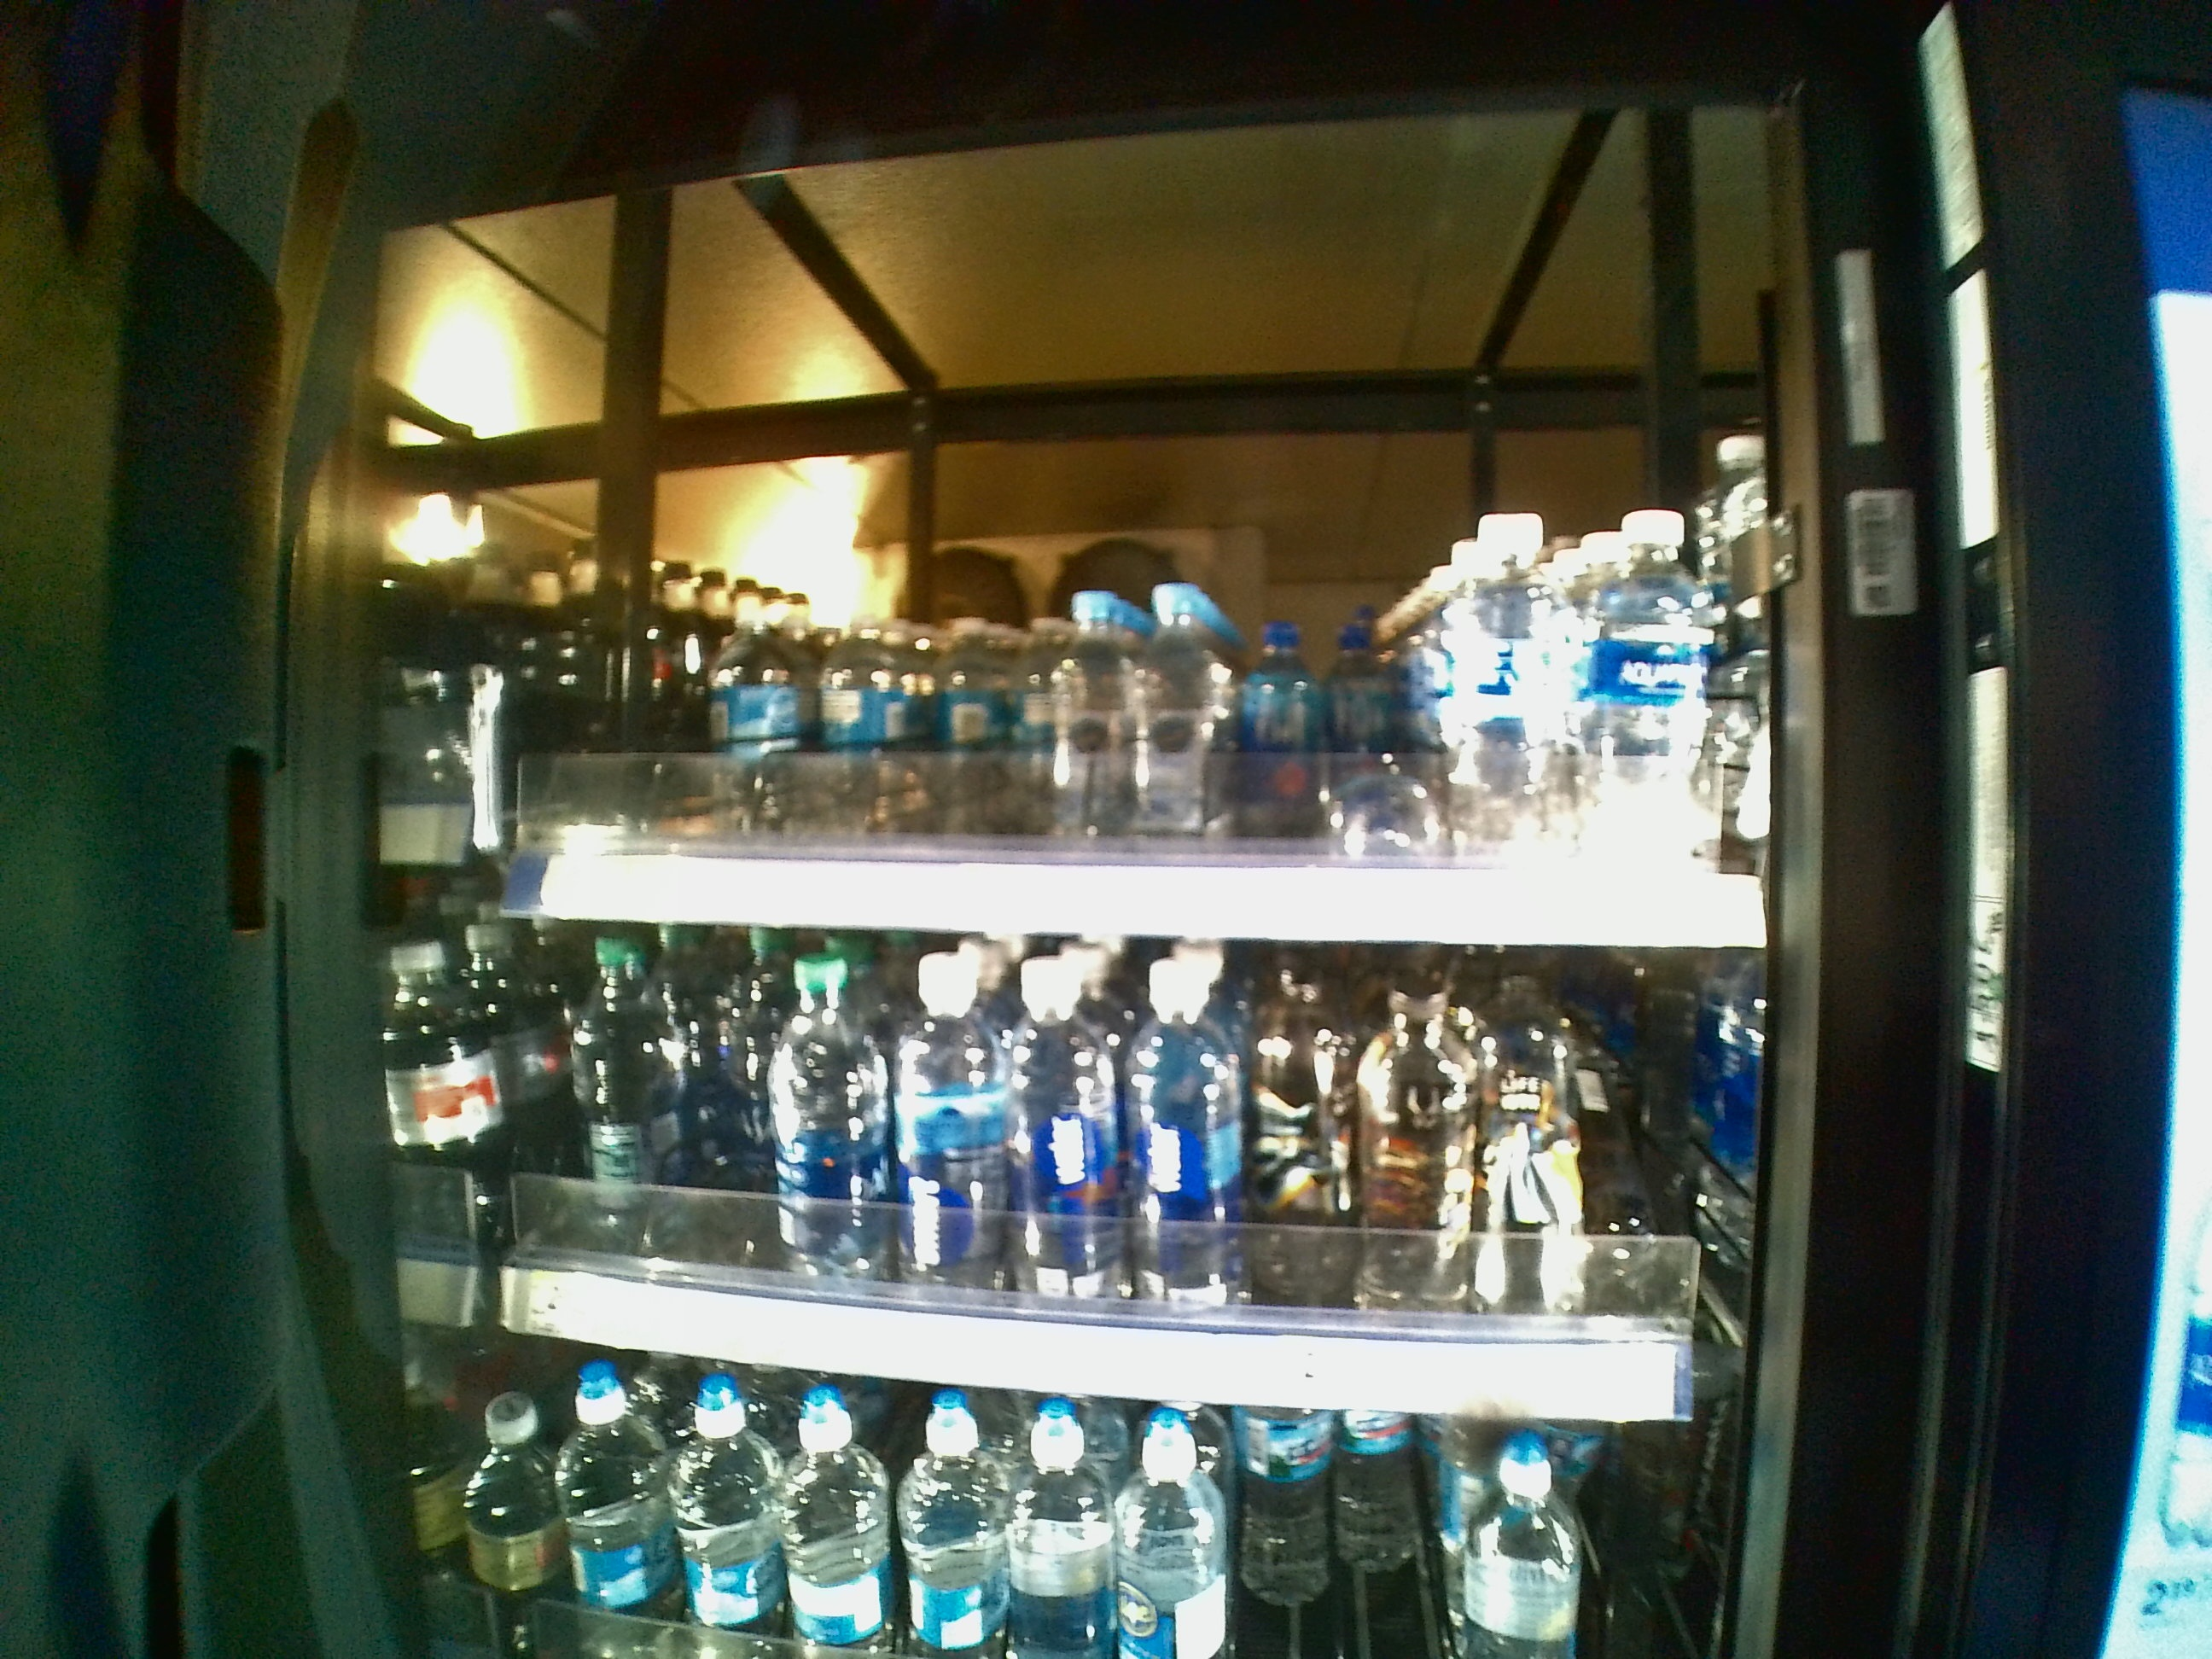Shelf: (444, 220, 1777, 953), (446, 950, 1787, 1419)
